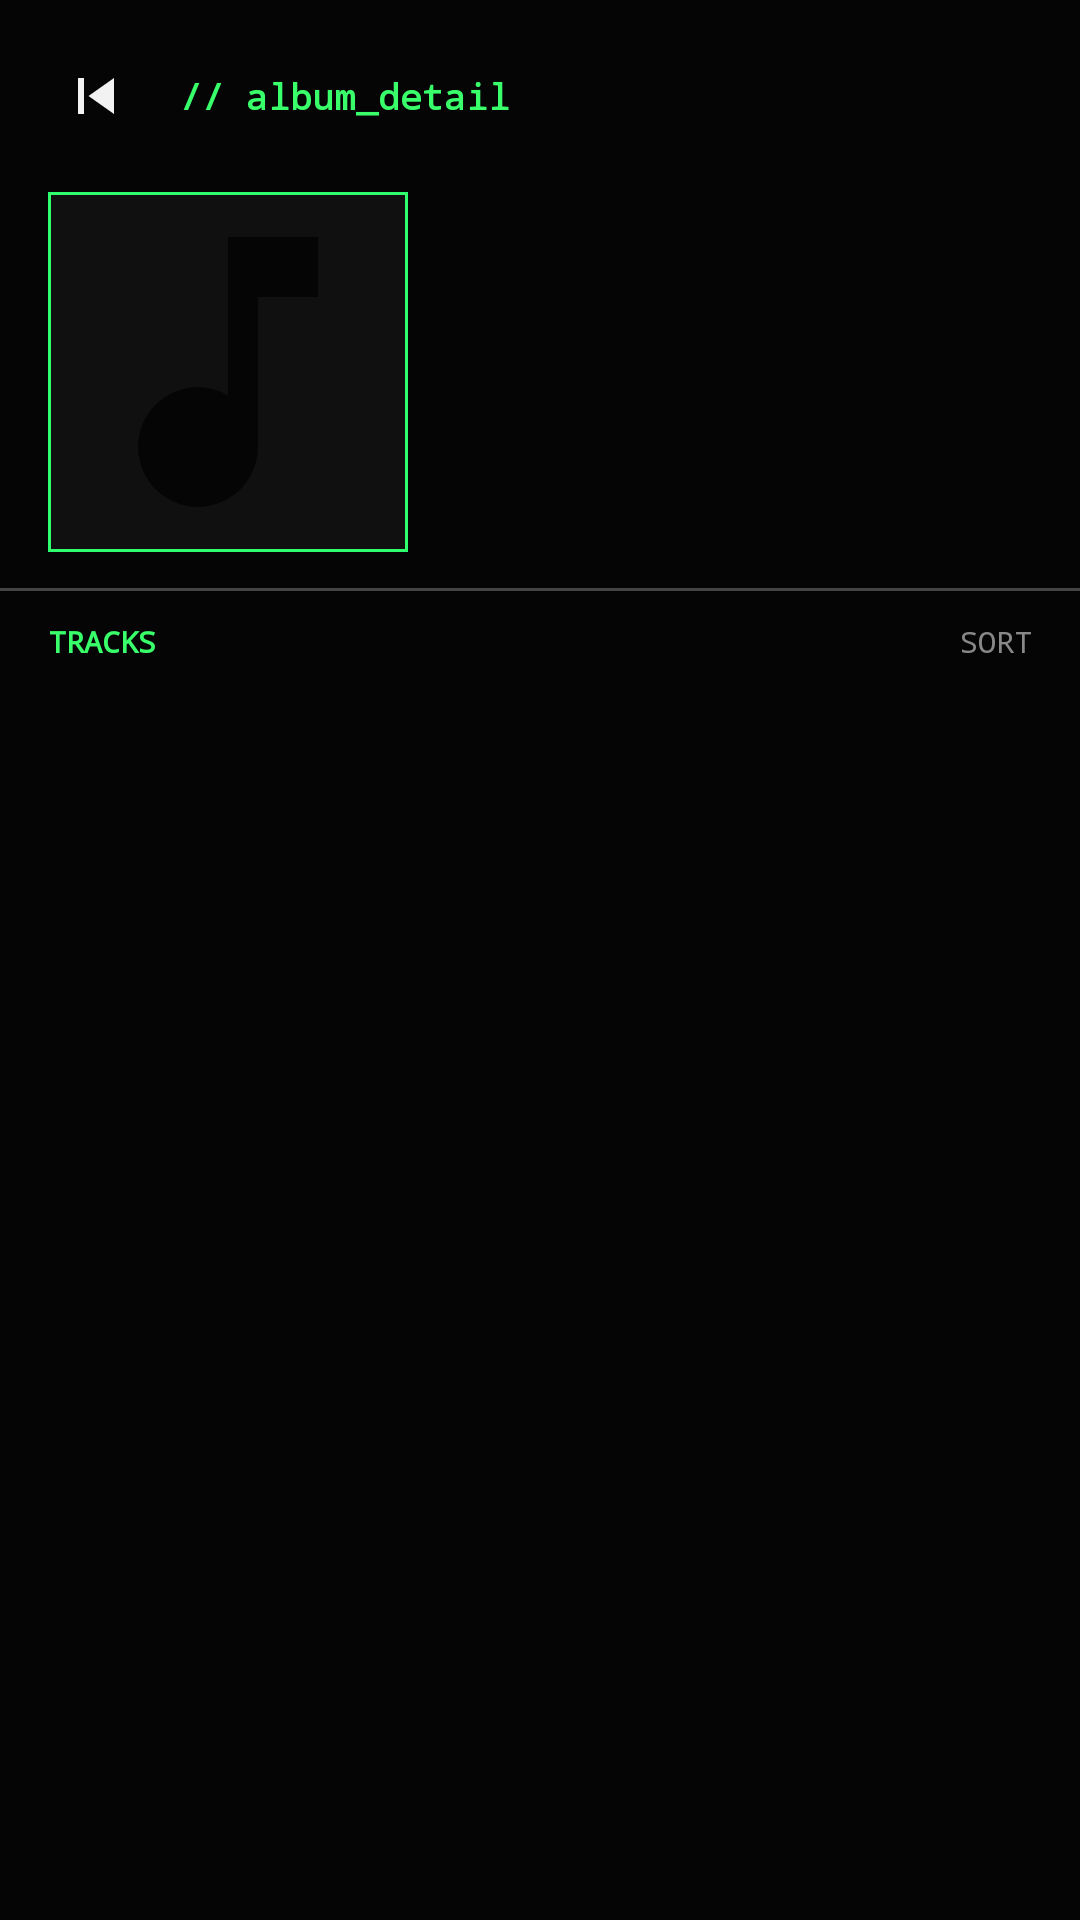

Icons on this 1080px×1920px Android screen, each with its box as (x1, y1, x2, y2):
Album art: (48, 192, 408, 552)
Back: (78, 78, 114, 114)
